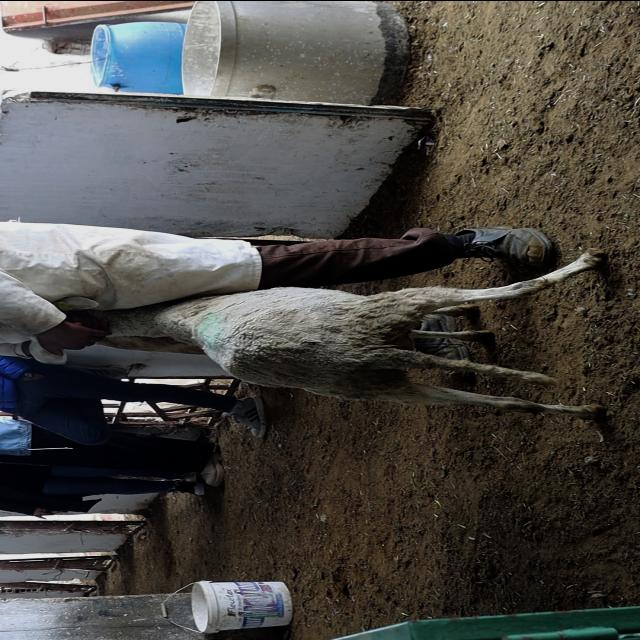Score_1: (90, 248, 604, 419)
